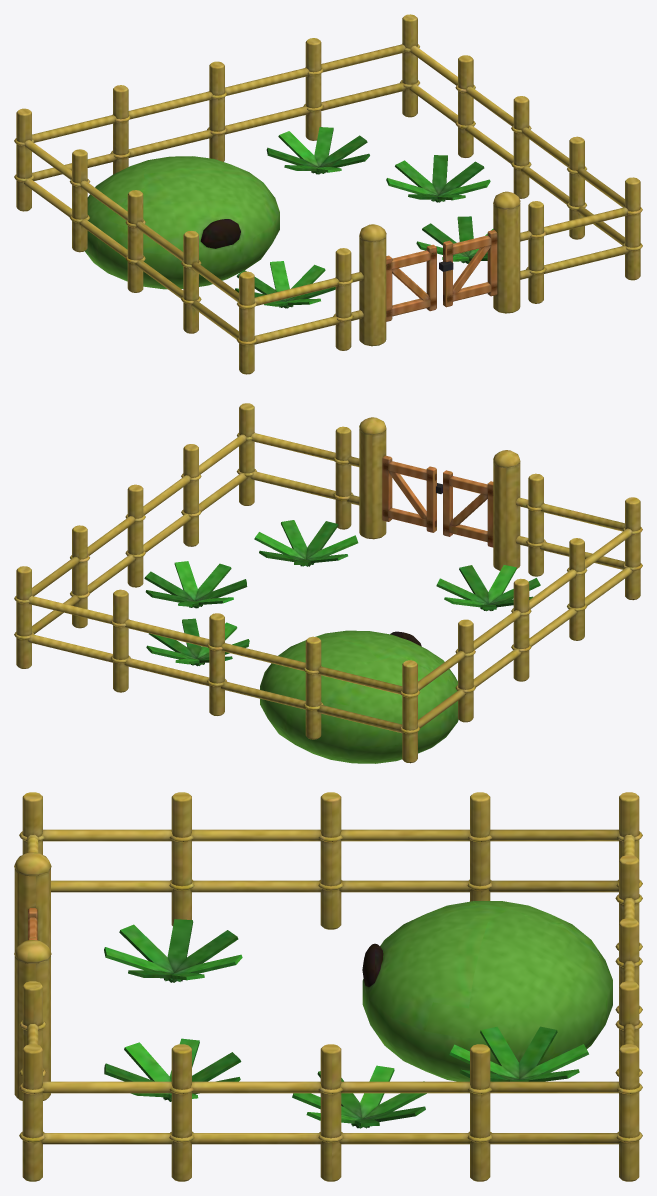
Rendered from kiwi_burrow.glb.
3 renders of one model, top to bottom at view 1: azimuth 30°, elevation 25°; view 2: azimuth 150°, elevation 25°; view 3: azimuth 270°, elevation 25°, orthographic. The views are drawn at different scales.
Visible parts, largest first — view 1: kiwi_burrow, gate1, gate0; view 2: kiwi_burrow, gate1, gate0; view 3: kiwi_burrow.
Part boxes in pixels (x1=…): kiwi_burrow: x1=14, y1=14, x2=642, y2=374; gate1: x1=439, y1=230, x2=497, y2=307; gate0: x1=386, y1=244, x2=436, y2=321; kiwi_burrow: x1=14, y1=403, x2=642, y2=763; gate1: x1=382, y1=455, x2=442, y2=532; gate0: x1=443, y1=470, x2=493, y2=547; kiwi_burrow: x1=14, y1=792, x2=642, y2=1181.
Bounding box in the file's own units: 1.99 × 0.7895 × 2.
1 material, 1 textured.
